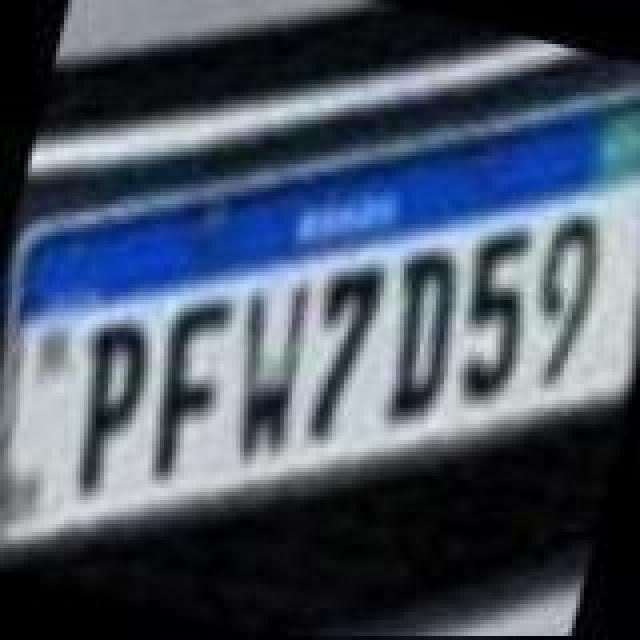5: (438, 222, 554, 414)
7: (286, 248, 394, 452)
9: (510, 208, 618, 392)
D: (366, 238, 482, 434)
F: (126, 286, 238, 490)
P: (50, 316, 162, 508)
W: (204, 264, 324, 476)
